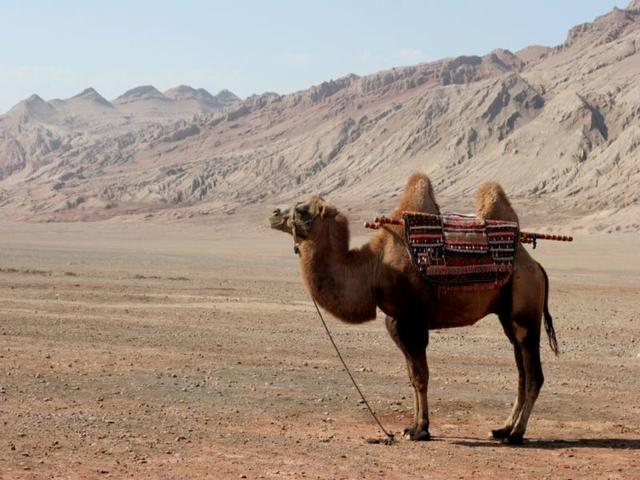camel: (241, 175, 584, 448)
